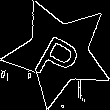P_NE: (30, 22, 87, 84)
